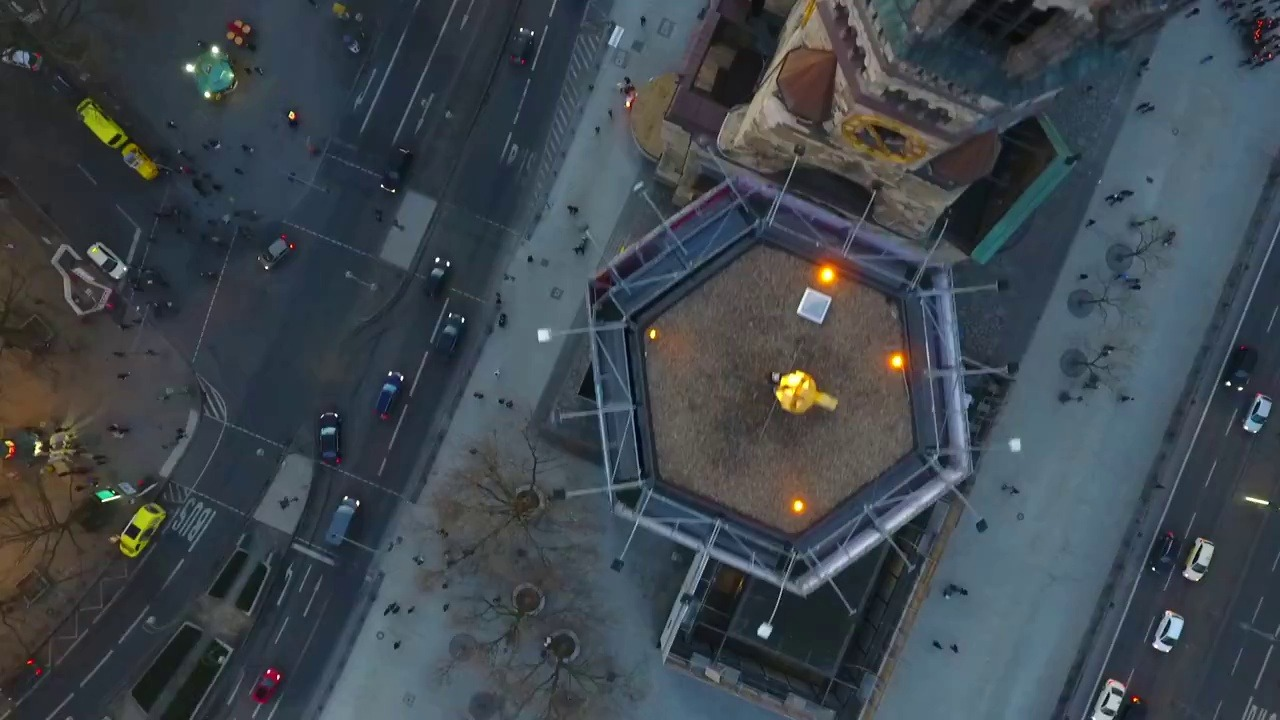car: (371, 363, 409, 425), (430, 304, 470, 362), (1146, 609, 1190, 659), (1180, 532, 1218, 587), (315, 406, 346, 468), (1089, 672, 1129, 720), (1239, 390, 1275, 443)
van: (73, 96, 134, 151)
